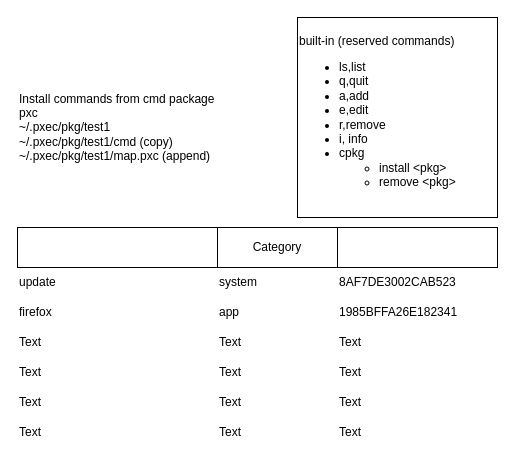
The diagram is 515 pixels wide and 465 high, and some of its shapes have lost their labels. Here are the shapes that lost their labels. From the top down, the centre of each, then its label:
At point 117,247: "Command Name".
At point 417,247: "File-Hash ~/.pxec/cmd".
